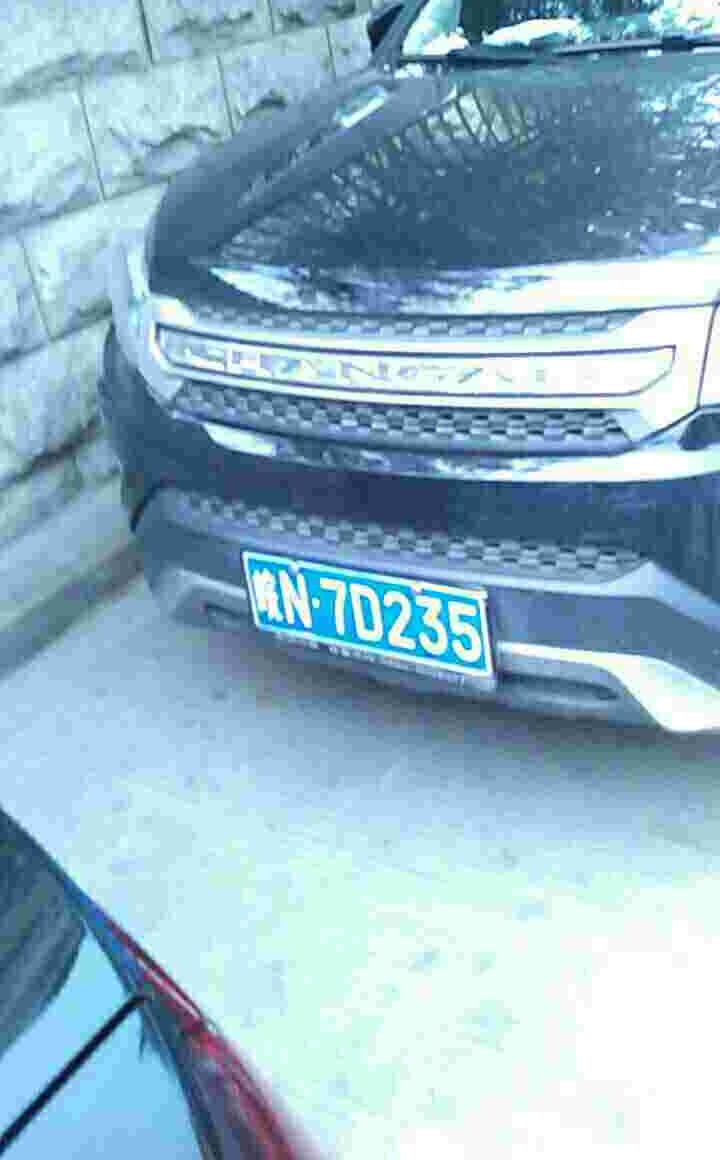license_plate: (243, 550, 482, 680)
